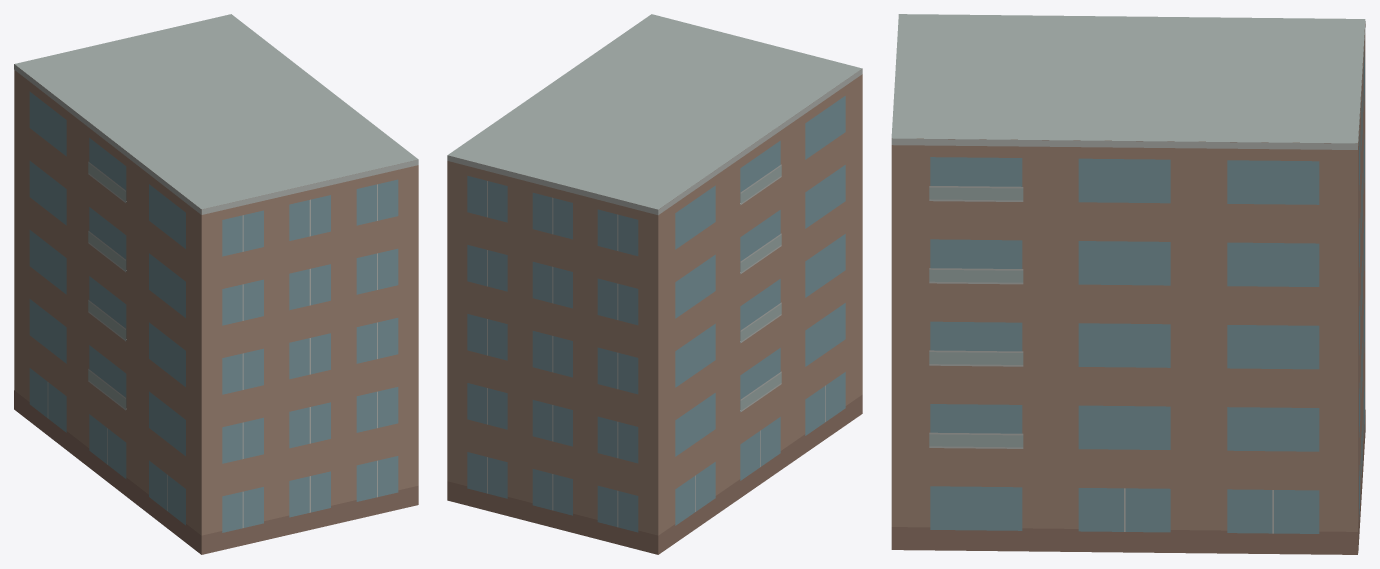
The model's file is survey-upis-32774573.glb.
3 views of the same model, side by side, from view 1: azimuth 30°, elevation 25°; view 2: azimuth 150°, elevation 25°; view 3: azimuth 270°, elevation 25° (orthographic). The views are drawn at different scales.
Visible parts, largest first — view 1: survey-upis-32774573.tmp; view 2: survey-upis-32774573.tmp; view 3: survey-upis-32774573.tmp.
Part boxes in pixels (x1,y1,x2,y2): survey-upis-32774573.tmp: (14, 14, 418, 554); survey-upis-32774573.tmp: (447, 14, 862, 554); survey-upis-32774573.tmp: (891, 14, 1365, 554).
Bounding box in the file's own units: 10.13 × 15 × 15.67.
